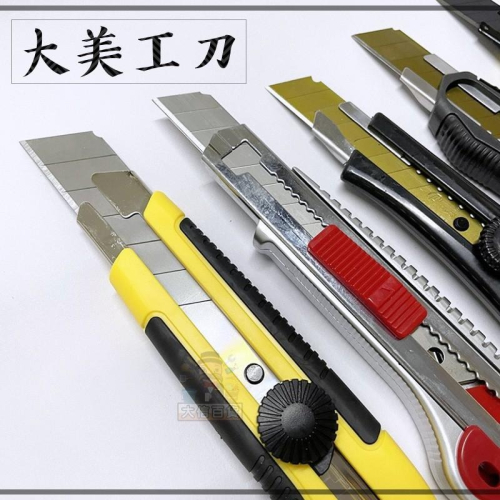cutter: (19, 130, 441, 496), (148, 92, 498, 498), (261, 75, 498, 325), (350, 28, 498, 197)
